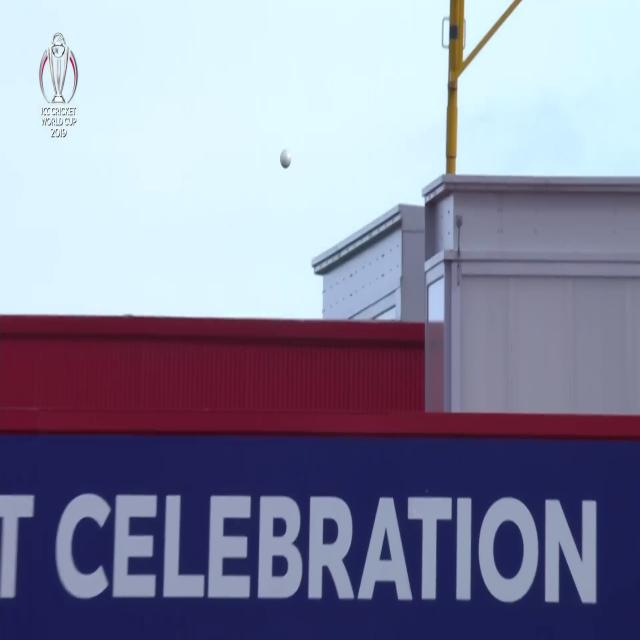ball: (276, 144, 294, 174)
